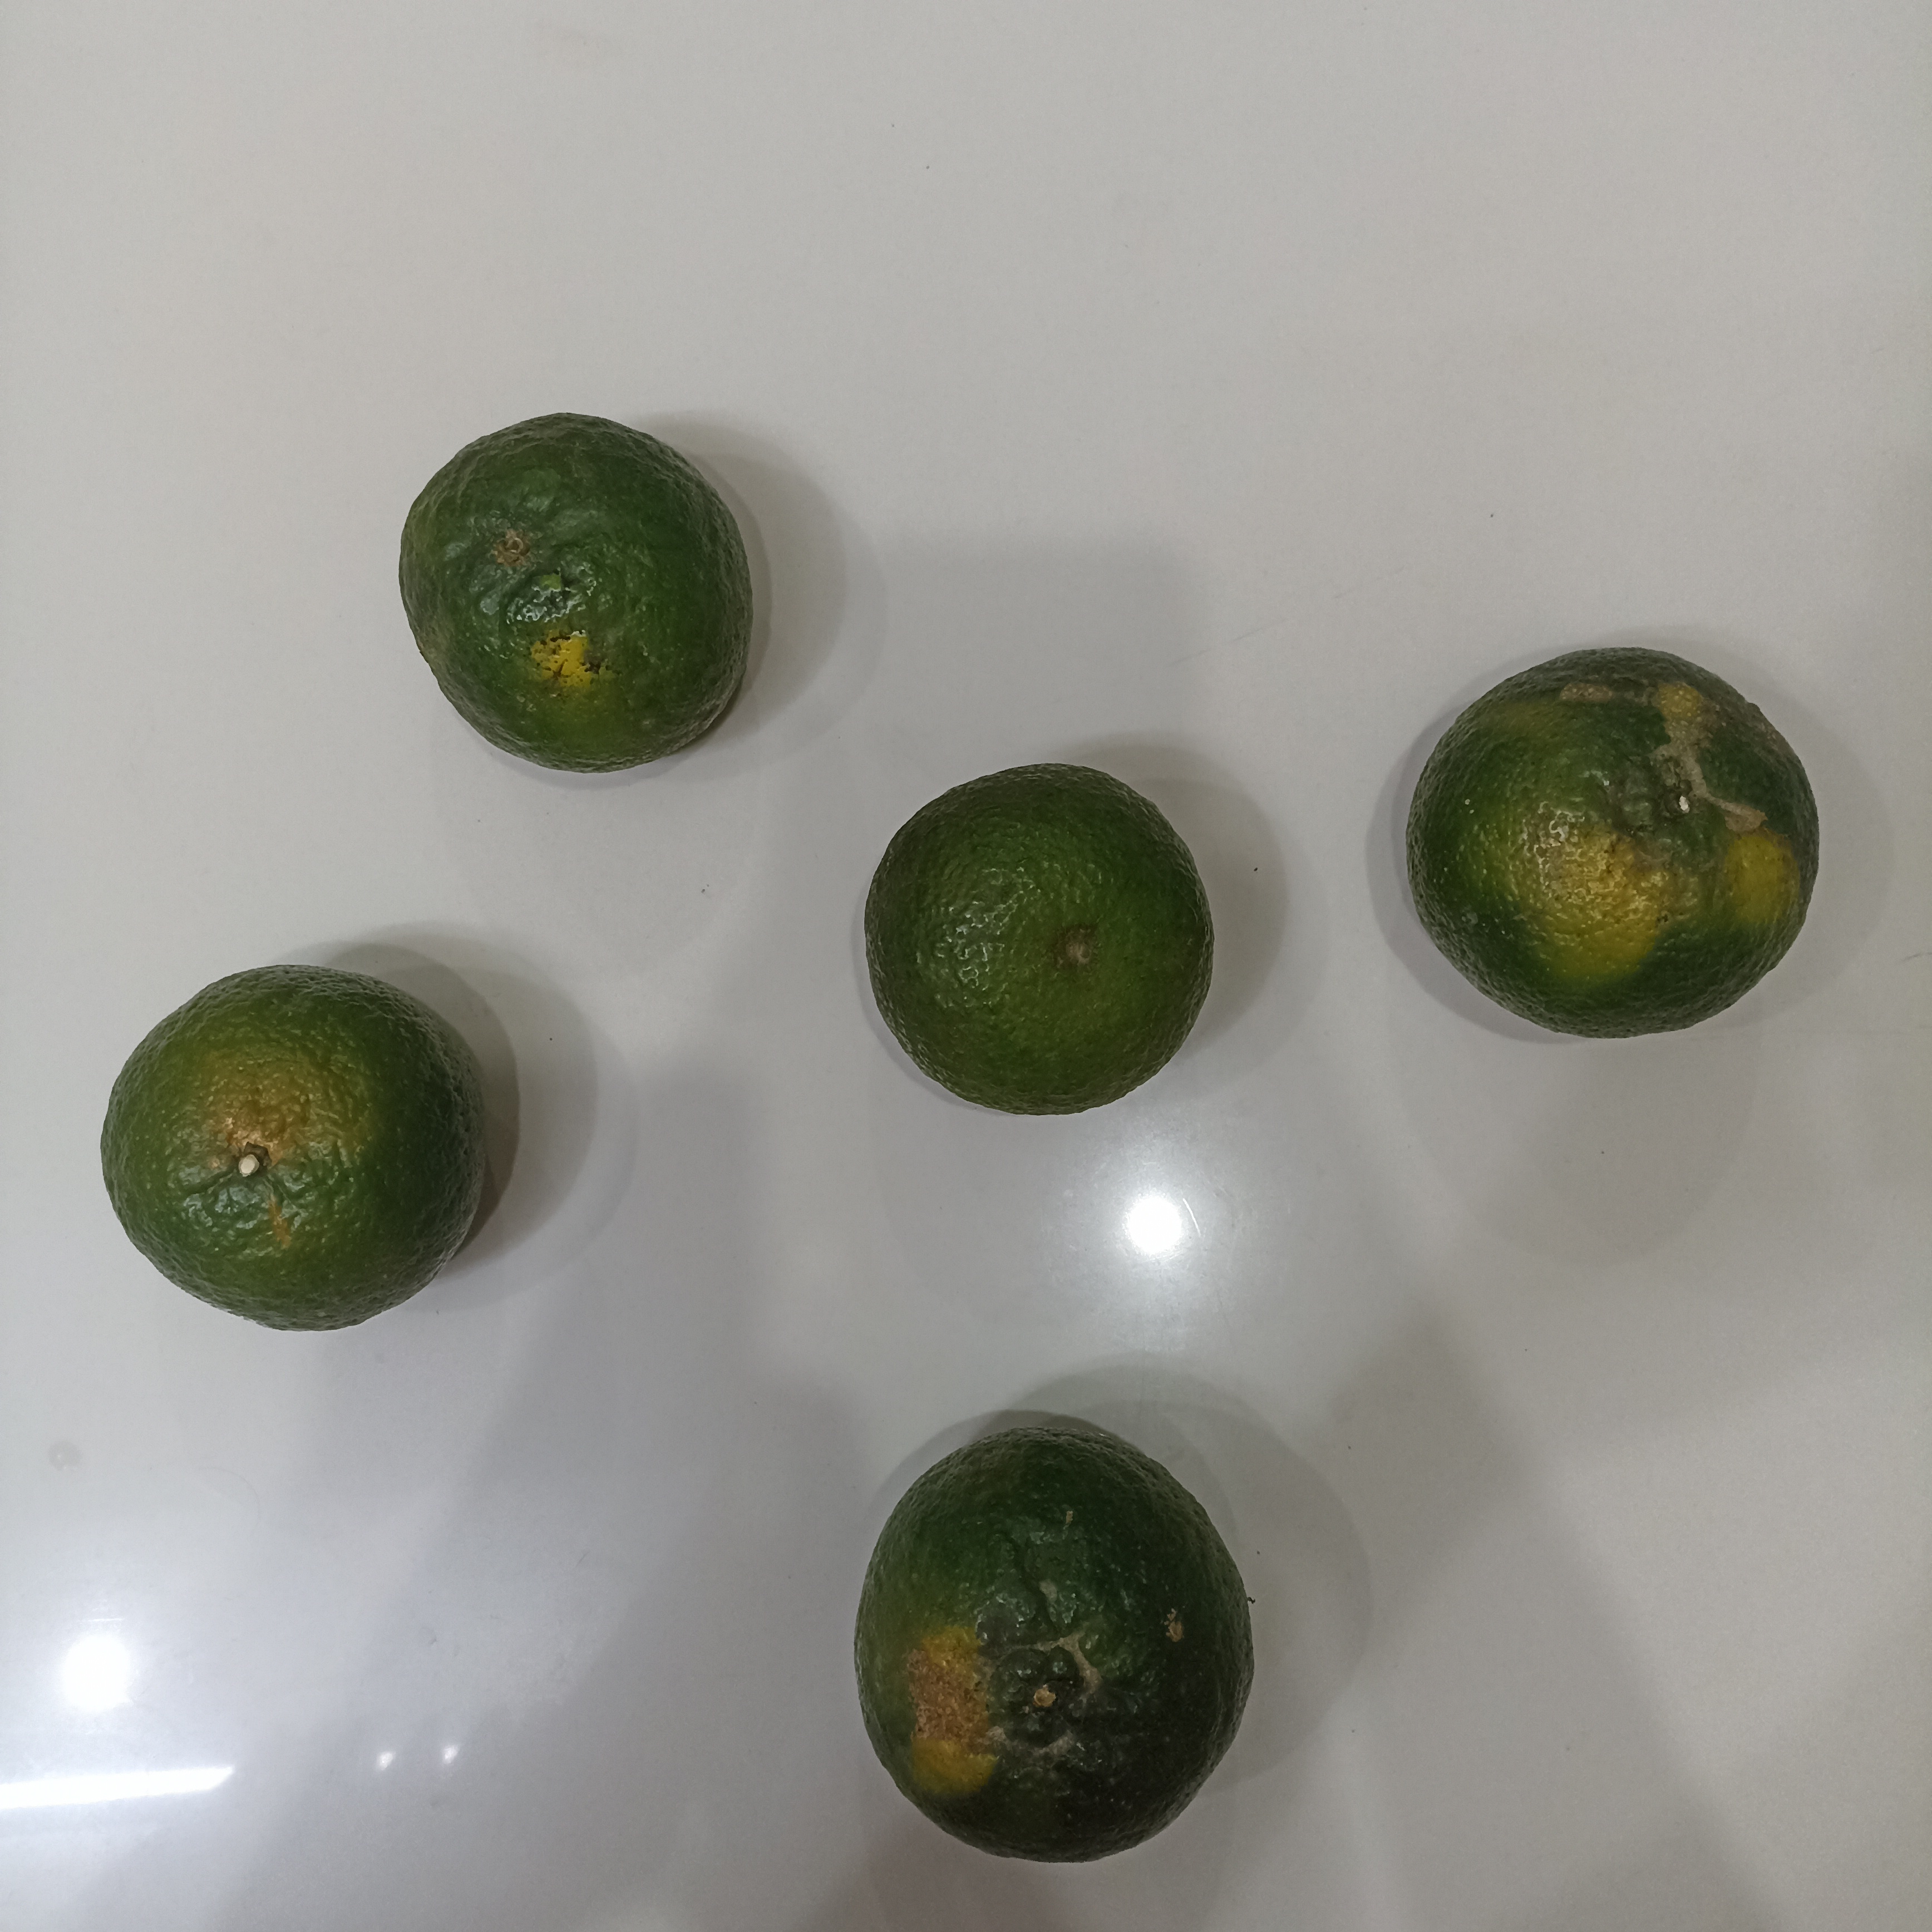Cam: (851, 1434, 1251, 1865), (1402, 650, 1824, 1043), (96, 962, 487, 1337), (860, 755, 1213, 1126), (397, 414, 755, 778)
